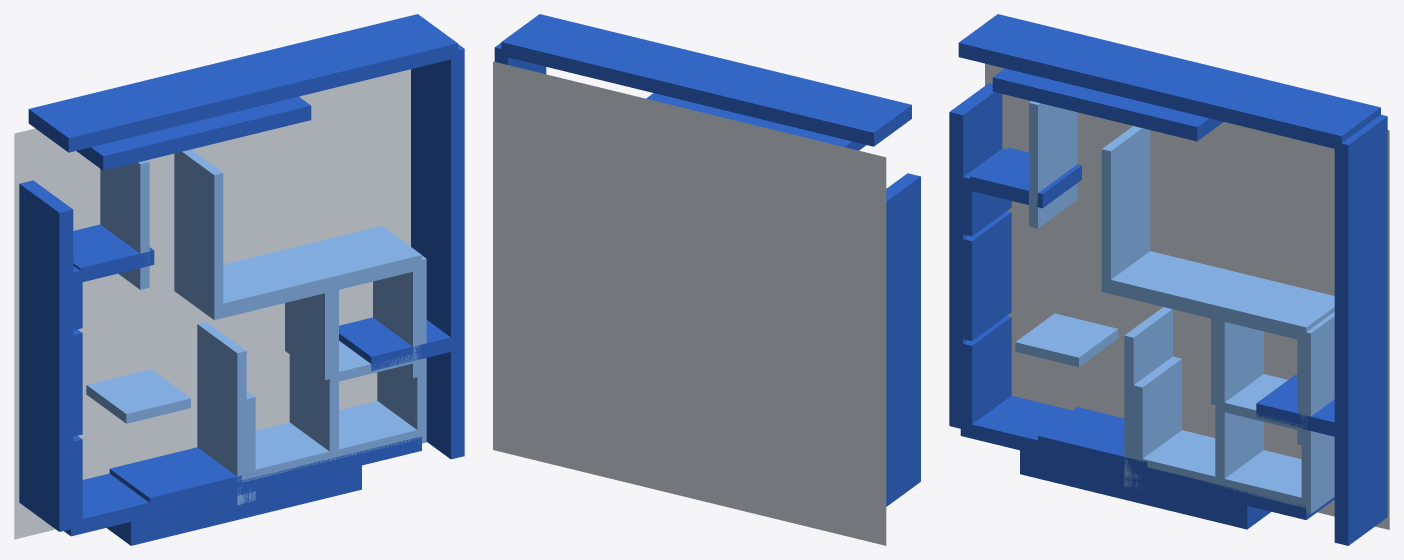
The model's file is c9a6119b-6327-4348-80e9-5f3f2bd32ece.obj.
3 views of the same model, side by side, from view 1: azimuth 30°, elevation 25°; view 2: azimuth 150°, elevation 25°; view 3: azimuth 330°, elevation 25° (orthographic). The views are drawn at different scales.
Bounding box in the file's own units: 17.8 × 17.7 × 3.05.
